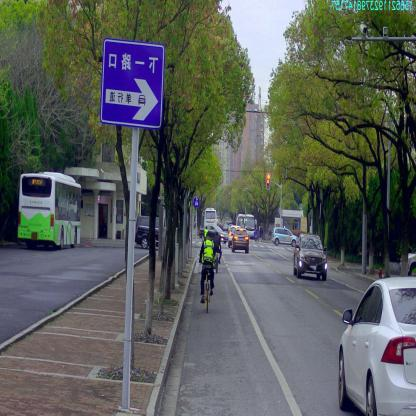traffic-light: (266, 174, 270, 188)
